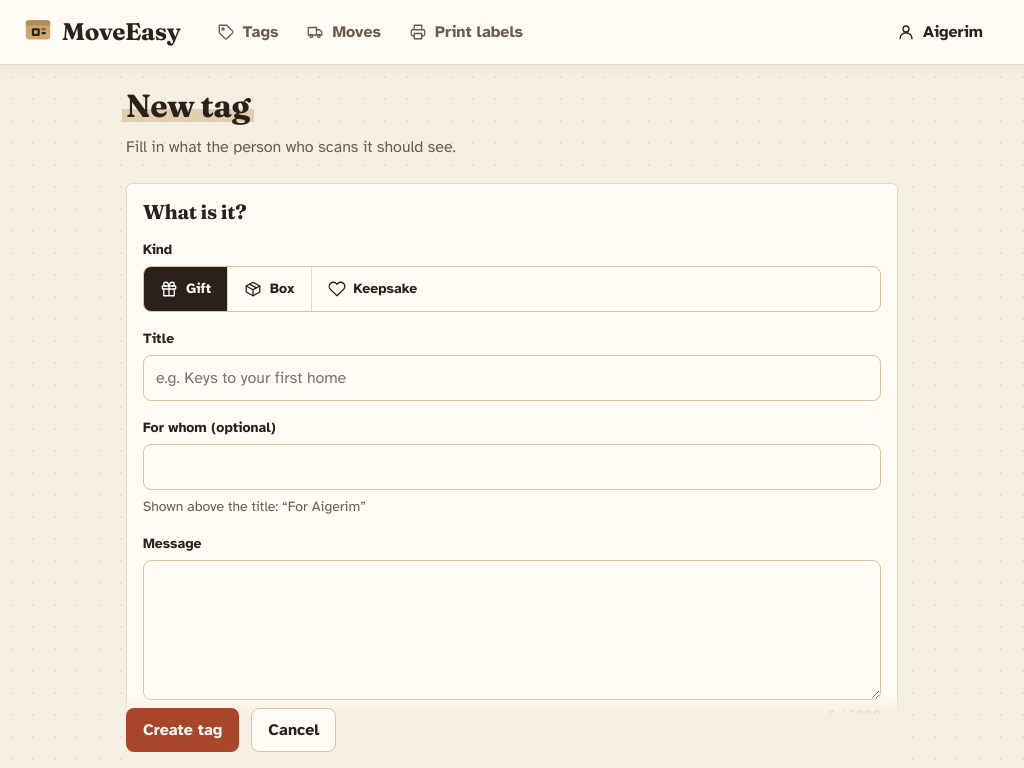
Test: privacy fields › rejects an opening date in the past
The image size is (1024, 768).
Type "Capsule" into the field labelled "Title" at (512, 378), box [143,355,881,401]
(page scrolled)
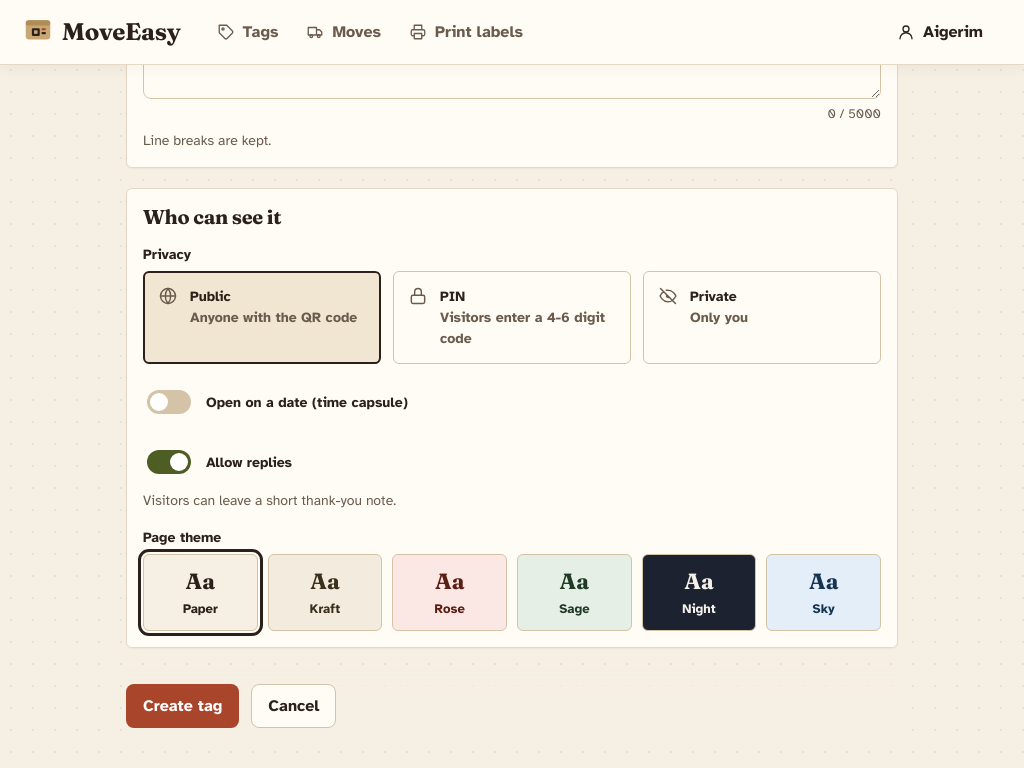
Click the switch labelled "Open on a date (time capsule)" at (169, 402), box [147,390,191,414]
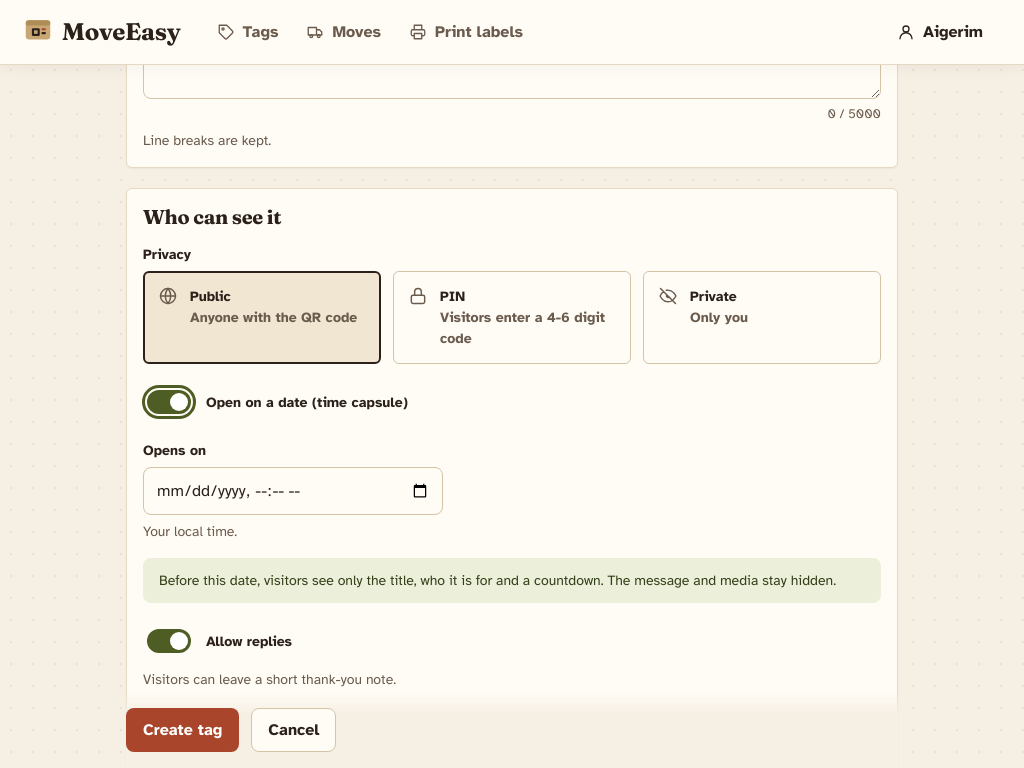
Type "2020-01-01T10:00" into the field labelled "Opens on" at (293, 491), box [143,467,443,515]
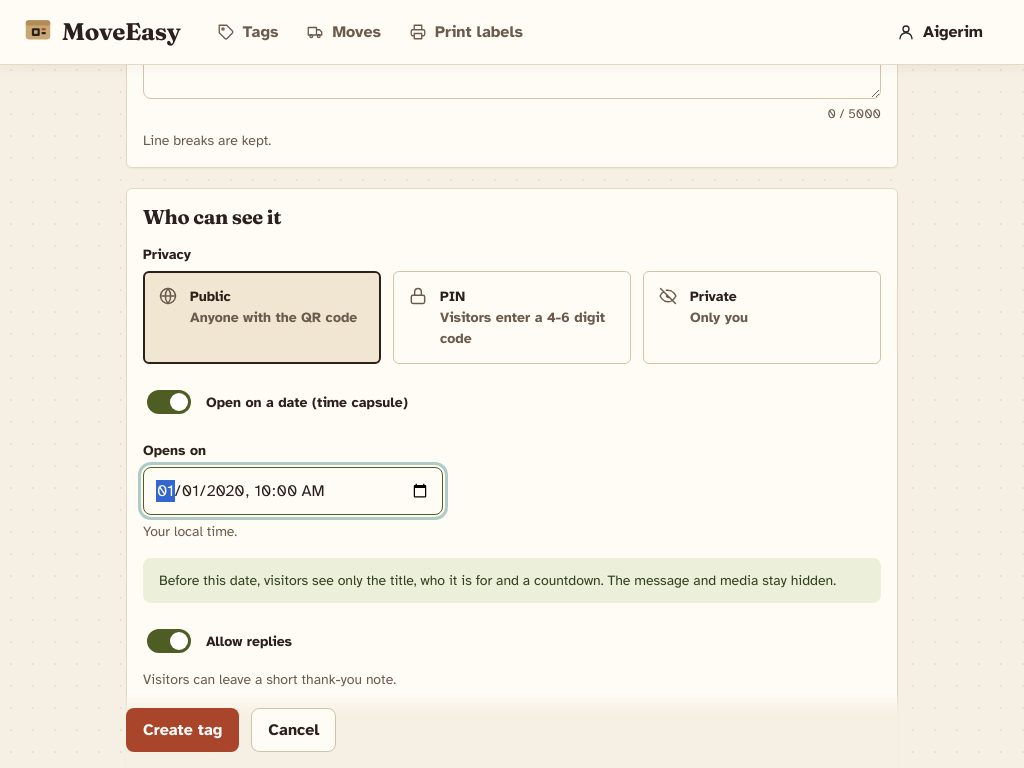
Click the button "Create tag" at (183, 730), box [126,708,239,752]
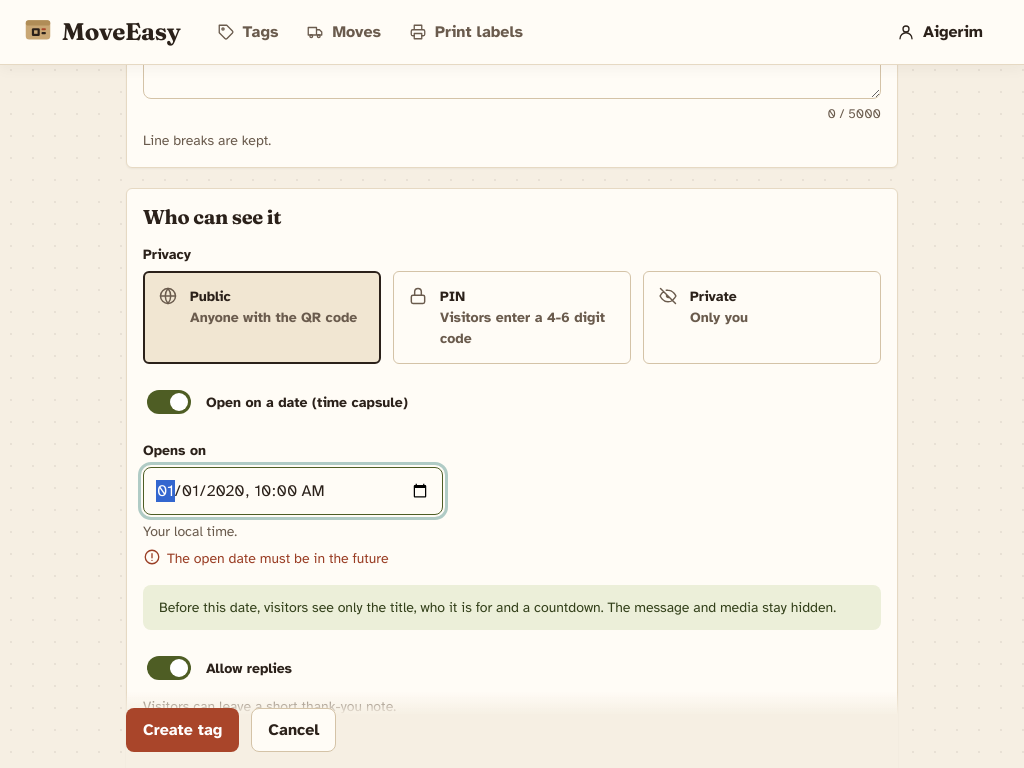
expect the text "The open date must be in the future" is shown: met, box [167,548,389,569]
